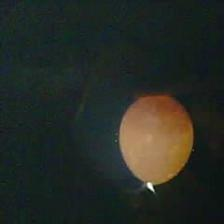infertile: (117, 90, 195, 188)
